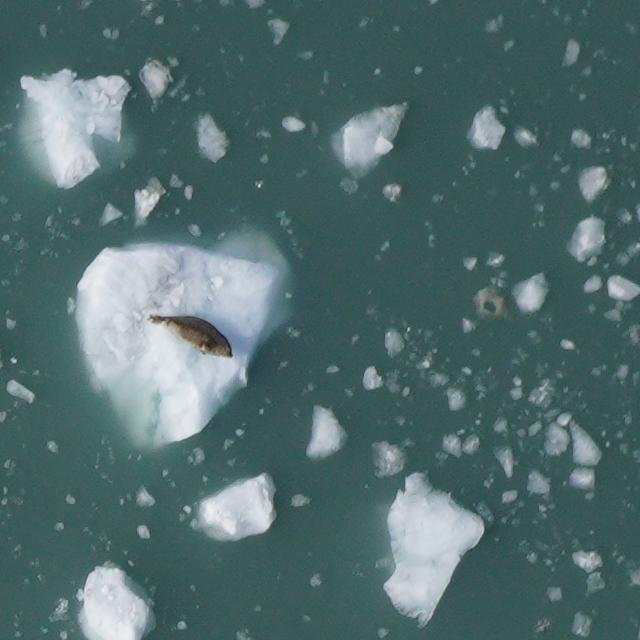seal: (142, 309, 237, 363)
